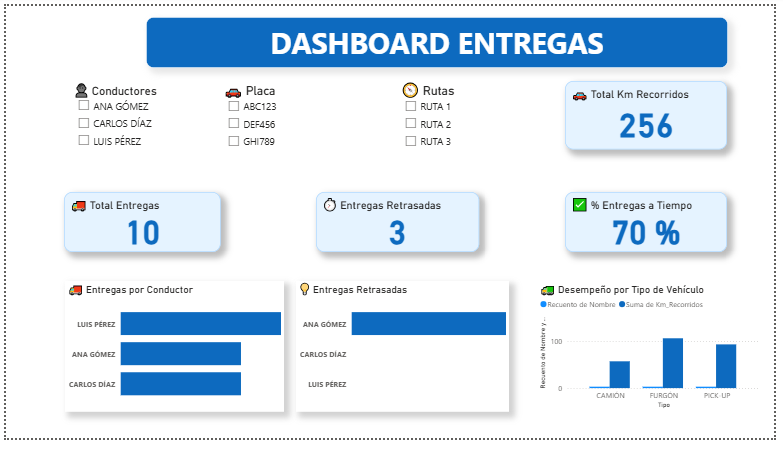

Layout of this report page (visuals, bound fields, positions):
{"tool":"powerbi","page":{"name":"Informe","canvas":[1280,720],"ordinal":0},"visuals":[{"type":"textbox","box":[233.8,17.5,970,85],"z":1000},{"type":"card","title":"🚚 Total Entregas","fields":{"Values":["Tabla_medidas.Total Entregas"]},"box":[97.1,310,261.4,100],"z":2000},{"type":"card","title":"✅ % Entregas a Tiempo","fields":{"Values":["Tabla_medidas.% Entregas a tiempo"]},"box":[931.4,310,270,100],"z":3000},{"type":"card","title":"⏱️ Entregas Retrasadas","fields":{"Values":["Tabla_medidas.Entregas Retrasadas"]},"box":[516.7,310,271.7,100],"z":4000},{"type":"clusteredBarChart","title":"🚚 Entregas por Conductor","fields":{"Y":["Tabla_medidas.Total Entregas"],"Category":["Tabla_Conductores.Nombre"]},"box":[97.5,458.8,365,217.5],"z":5000},{"type":"clusteredBarChart","title":"💡 Entregas Retrasadas","fields":{"Y":["Tabla_medidas.Entregas Retrasadas"],"Category":["Tabla_Conductores.Nombre"]},"box":[482.5,458.8,355,217.5],"z":6000},{"type":"slicer","title":"👤 Conductores","fields":{"Values":["Tabla_Conductores.Nombre"]},"box":[108.6,125.7,215.7,150],"z":7000},{"type":"slicer","title":"🚗 Placa","fields":{"Values":["Tabla_Vehiculos.Placa"]},"box":[358.6,125.7,220,150],"z":8000},{"type":"clusteredColumnChart","title":"🚛 Desempeño por Tipo de Vehículo","fields":{"Y":["CountNonNull(Tabla_Conductores.Nombre)","Sum(Tabla_Movimientos.Km_Recorridos)"],"Category":["Tabla_Vehiculos.Tipo"]},"box":[885,458.8,376.2,217.5],"z":9000},{"type":"slicer","title":"🧭 Rutas","fields":{"Values":["Tabla_Movimientos.Ruta"]},"box":[652.9,125.7,202.9,150],"z":10000},{"type":"card","title":"🚗 Total Km Recorridos","fields":{"Values":["Tabla_medidas.Total Km"]},"box":[931.4,125.7,270,114.3],"z":11000}]}

Visuals, with their boxes in screenshot pixels (x1, y1, x2, y2), scaled from the page's 1280x720 canvas onto the 783x450 screenshot:
textbox: (143,11,736,64)
"🚚 Total Entregas" card: (59,194,219,256)
"✅ % Entregas a Tiempo" card: (570,194,735,256)
"⏱️ Entregas Retrasadas" card: (316,194,482,256)
"🚚 Entregas por Conductor" clusteredBarChart: (60,287,283,423)
"💡 Entregas Retrasadas" clusteredBarChart: (295,287,512,423)
"👤 Conductores" slicer: (66,79,198,172)
"🚗 Placa" slicer: (219,79,354,172)
"🚛 Desempeño por Tipo de Vehículo" clusteredColumnChart: (541,287,771,423)
"🧭 Rutas" slicer: (399,79,524,172)
"🚗 Total Km Recorridos" card: (570,79,735,150)
